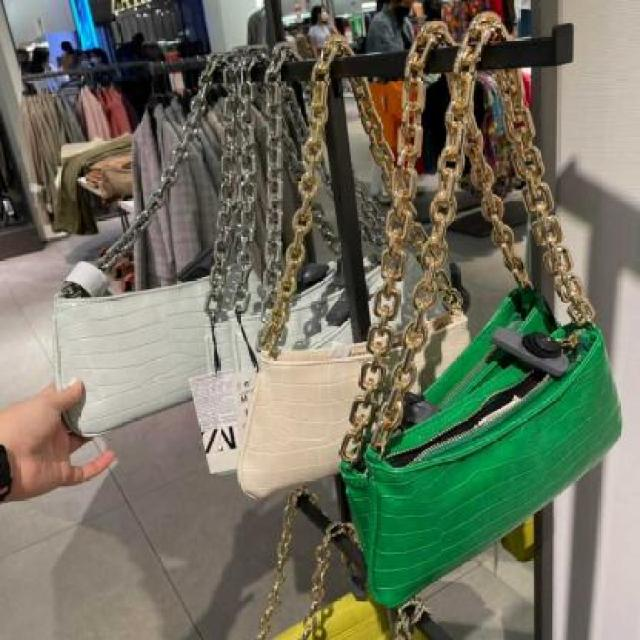Bag: (297, 13, 640, 632)
